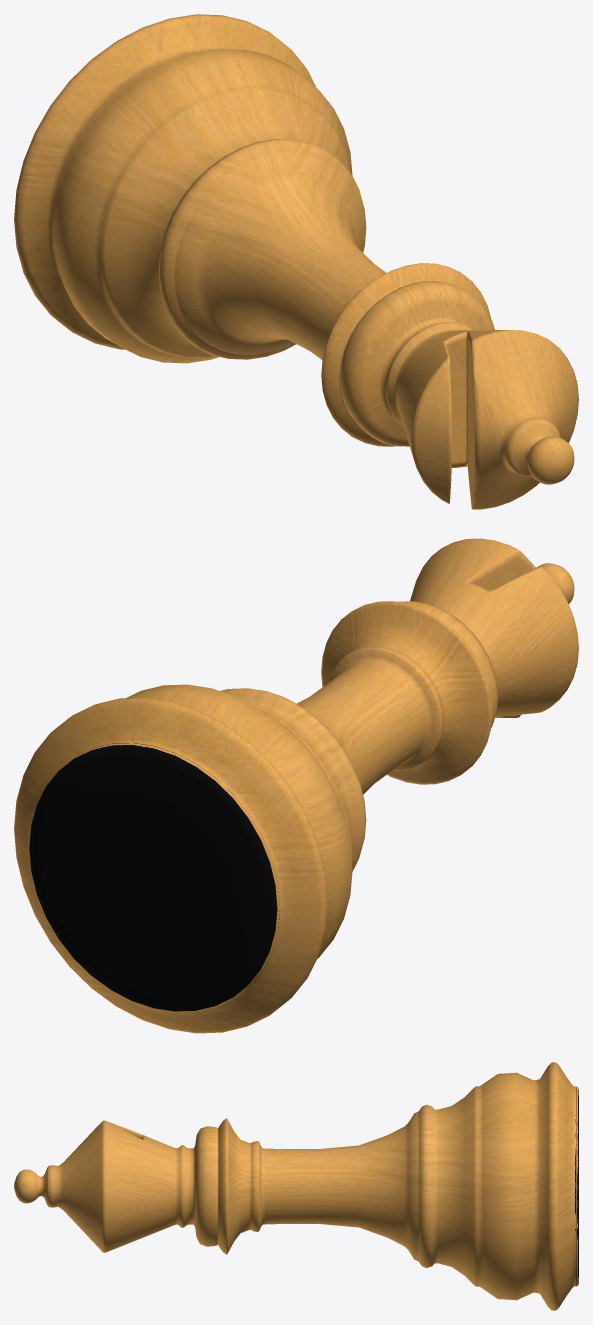
File: []Alfiere_Bianco_3-4k.obj
3 views of the same model, one above another, from view 1: azimuth 30°, elevation 25°; view 2: azimuth 150°, elevation 25°; view 3: azimuth 270°, elevation 25° (orthographic). The views are drawn at different scales.
Parts seen in each view (by area): view 1: 12929_WoodenChessBishopSideA_v1_l3; view 2: 12929_WoodenChessBishopSideA_v1_l3; view 3: 12929_WoodenChessBishopSideA_v1_l3.
Boxes of the visible parts, x1=… form: 12929_WoodenChessBishopSideA_v1_l3: x1=14, y1=14, x2=578, y2=509; 12929_WoodenChessBishopSideA_v1_l3: x1=14, y1=538, x2=578, y2=1033; 12929_WoodenChessBishopSideA_v1_l3: x1=14, y1=1062, x2=578, y2=1310.
Size of the model in its own units: 4.53 by 4.53 by 10.27.
Materials: 1 (1 with a texture image).
